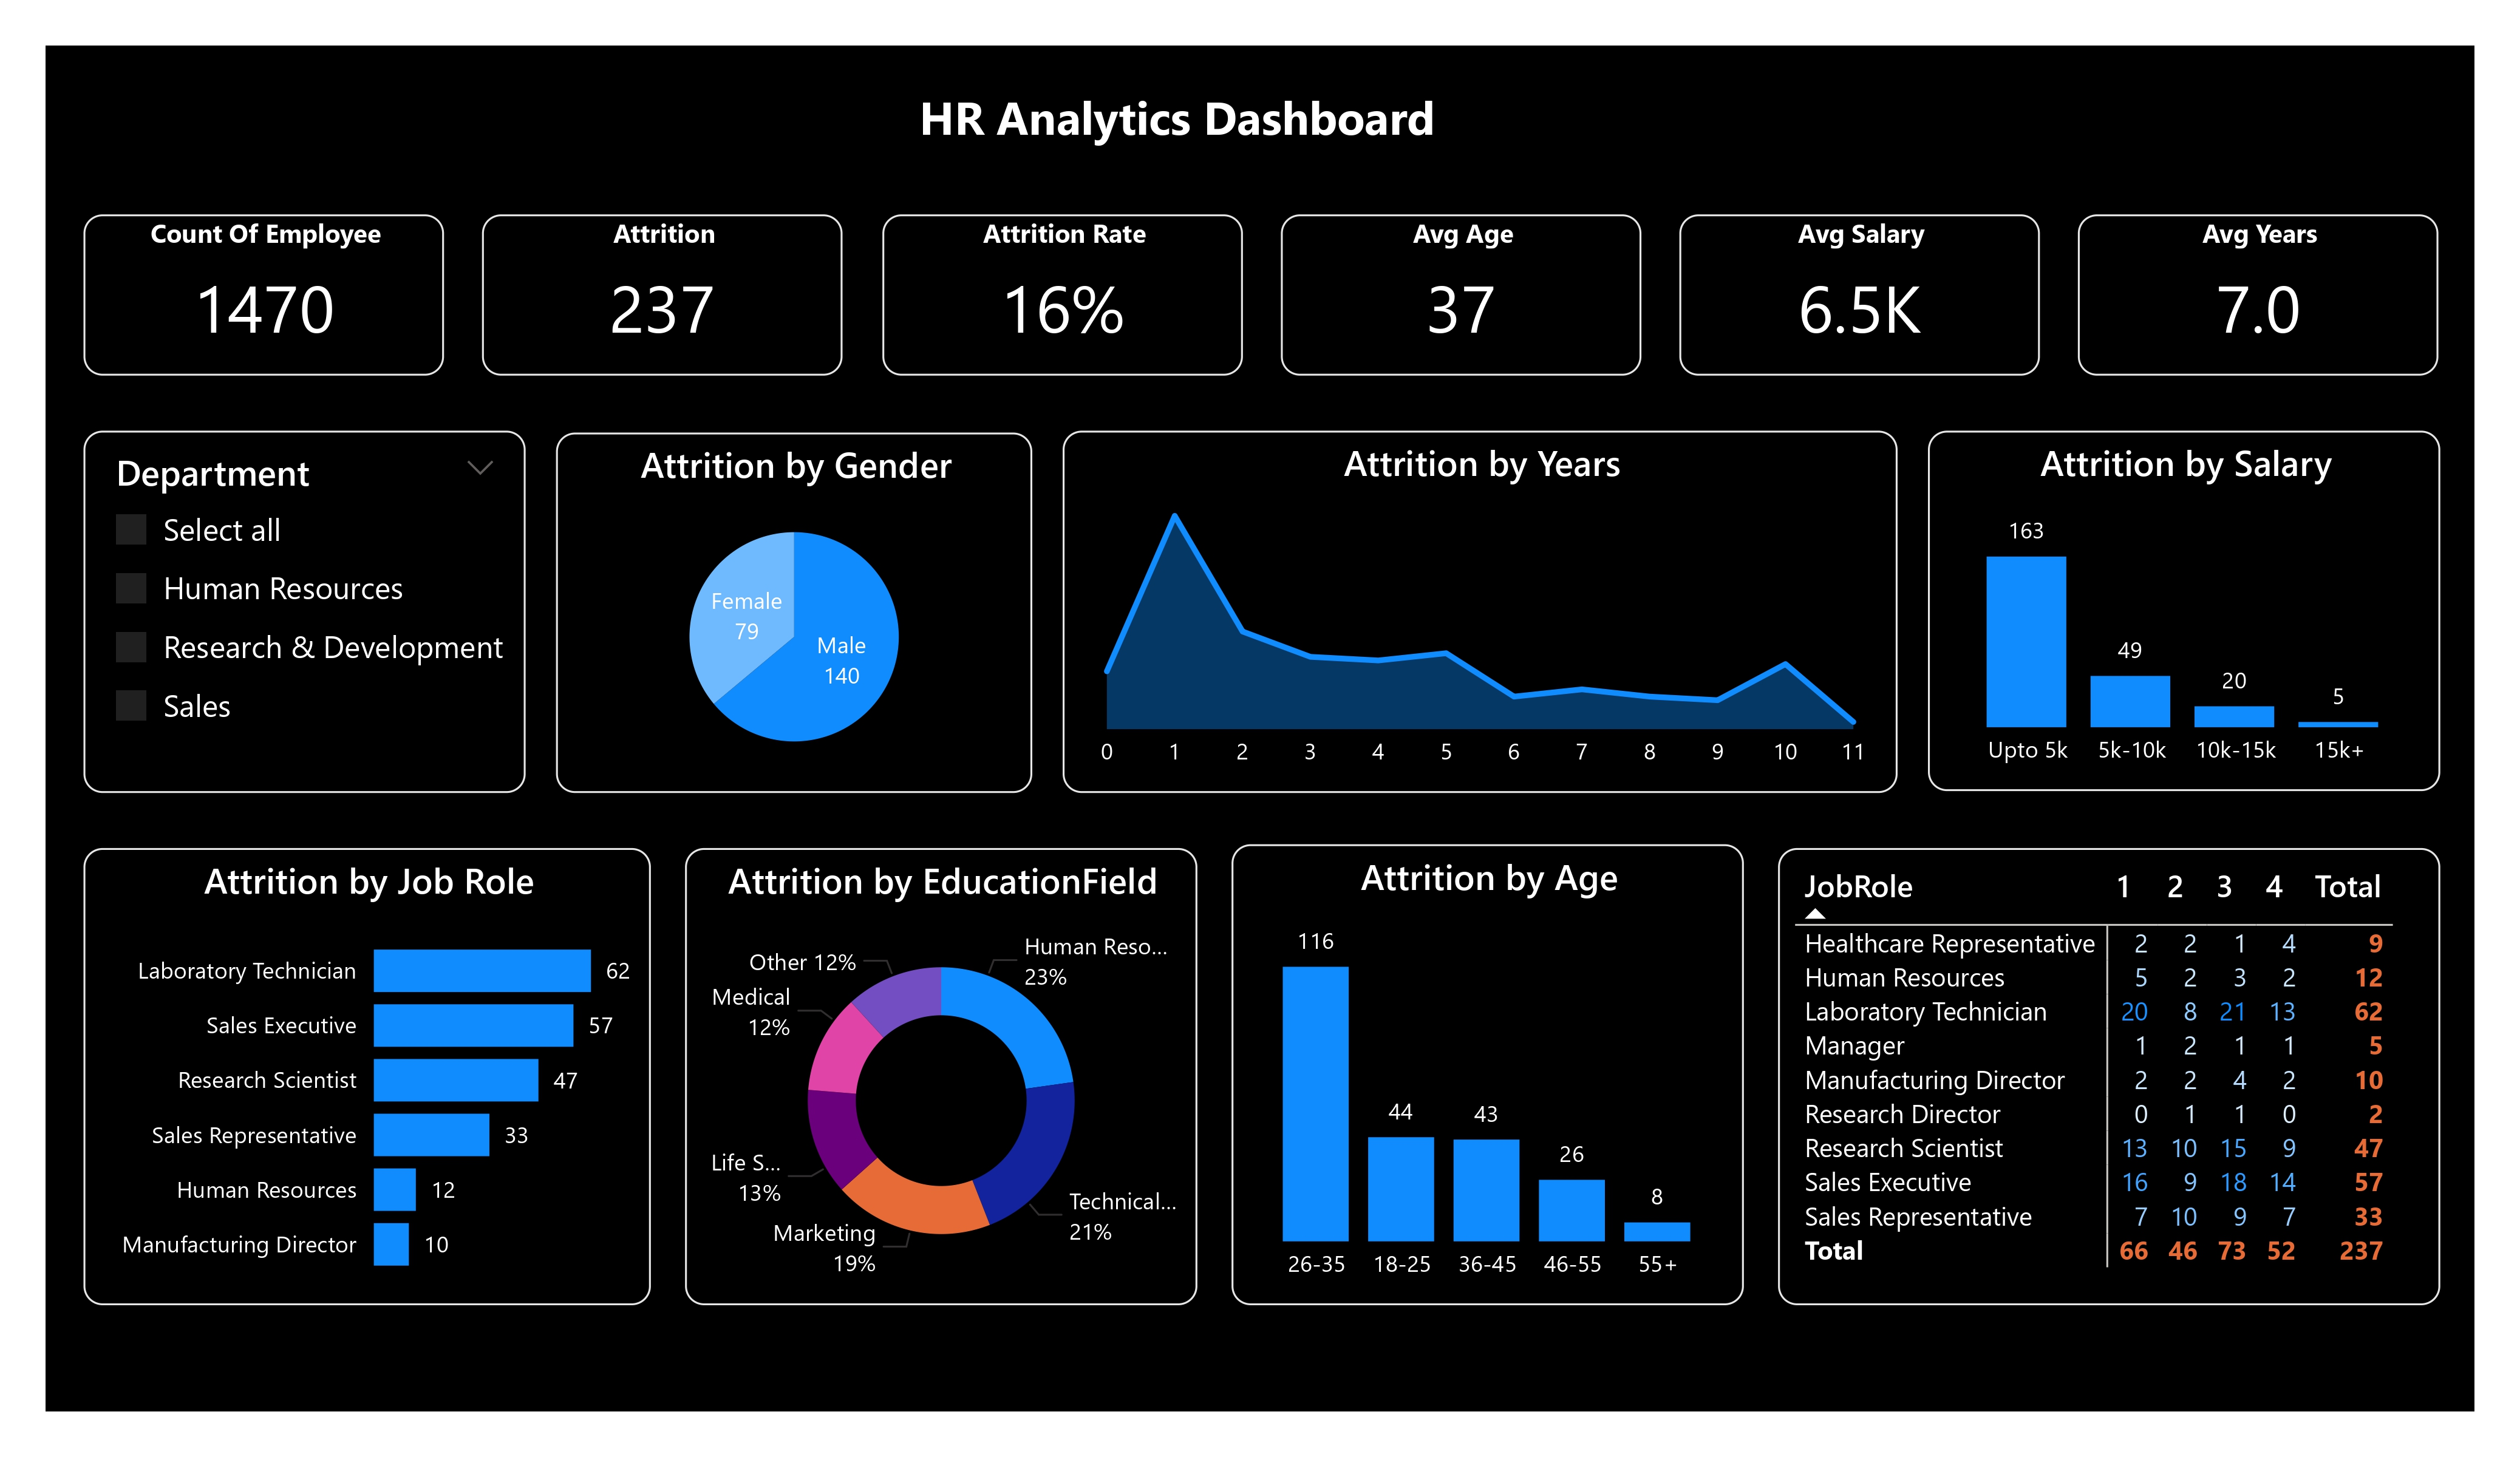

Layout of this report page (visuals, bound fields, positions):
{"tool":"powerbi","page":{"name":"Page 1","canvas":[1280,720],"ordinal":0},"visuals":[{"type":"card","title":"Count Of Employee","fields":{"Values":["CountNonNull(HR_Analytics.EmpID)"]},"box":[20,88.8,190,85],"z":0},{"type":"card","title":"Avg Salary","fields":{"Values":["Avg(HR_Analytics.MonthlyIncome)"]},"box":[861,88.8,190,85],"z":1000},{"type":"card","title":"Avg Years","fields":{"Values":["Avg(HR_Analytics.YearsAtCompany)"]},"box":[1071.2,88.8,190,85],"z":2000},{"type":"card","title":"Avg Age","fields":{"Values":["Avg(HR_Analytics.Age)"]},"box":[650.8,89.2,190,85],"z":3000},{"type":"card","title":"Attrition","fields":{"Values":["Sum(HR_Analytics.AttritionCount)"]},"box":[230.2,88.9,190,85],"z":4000},{"type":"card","title":"Attrition Rate","fields":{"Values":["HR_Analytics.AttritionRate"]},"box":[440.5,88.9,190,85],"z":5000},{"type":"donutChart","title":"Attrition by EducationField","fields":{"Category":["HR_Analytics.EducationField"],"Y":["HR_Analytics.AttritionRate"]},"box":[337.1,422.5,270,241.2],"z":6000},{"type":"clusteredColumnChart","title":"Attrition by Age","fields":{"Category":["HR_Analytics.AgeGroup"],"Y":["Sum(HR_Analytics.AttritionCount)"]},"box":[625,421.2,270,242.5],"z":7000},{"type":"pivotTable","title":"Attrition by Age","fields":{"Rows":["HR_Analytics.JobRole"],"Columns":["HR_Analytics.JobSatisfaction"],"Values":["Sum(HR_Analytics.AttritionCount)"]},"box":[912.9,422.5,348.8,241.2],"z":8000},{"type":"clusteredColumnChart","title":"Attrition by Salary","fields":{"Category":["HR_Analytics.SalarySlab"],"Y":["Sum(HR_Analytics.AttritionCount)"]},"box":[991.7,203.1,270,190],"z":9000},{"type":"clusteredBarChart","title":"Attrition by Job Role","fields":{"Category":["HR_Analytics.JobRole"],"Y":["Sum(HR_Analytics.AttritionCount)"]},"box":[20.4,422.5,298.8,241.2],"z":10000},{"type":"areaChart","title":"Attrition by Years","fields":{"Category":["HR_Analytics.YearsAtCompany"],"Y":["Sum(HR_Analytics.AttritionCount)"]},"box":[535.8,202.5,440,191.2],"z":11000},{"type":"pieChart","title":"Attrition by Gender","fields":{"Category":["HR_Analytics.Gender"],"Y":["Sum(HR_Analytics.AttritionCount)"]},"box":[268.7,203.8,251.2,190],"z":12000},{"type":"slicer","title":"Attrition by Age","fields":{"Values":["HR_Analytics.Department"]},"box":[20.4,202.5,232.5,191.2],"z":13000},{"type":"textbox","box":[393.8,16.2,405,46.2],"z":14000}]}

Visuals, with their boxes on the page's 1280x720 design canvas (x1, y1, x2, y2). These are canvas units, not pixel positions in the 2520x1457 screenshot, which may show the page scaled, cropped or inside an application window:
"Count Of Employee" card: <region>20, 89, 210, 174</region>
"Avg Salary" card: <region>861, 89, 1051, 174</region>
"Avg Years" card: <region>1071, 89, 1261, 174</region>
"Avg Age" card: <region>651, 89, 841, 174</region>
"Attrition" card: <region>230, 89, 420, 174</region>
"Attrition Rate" card: <region>440, 89, 630, 174</region>
"Attrition by EducationField" donutChart: <region>337, 422, 607, 664</region>
"Attrition by Age" clusteredColumnChart: <region>625, 421, 895, 664</region>
"Attrition by Age" pivotTable: <region>913, 422, 1262, 664</region>
"Attrition by Salary" clusteredColumnChart: <region>992, 203, 1262, 393</region>
"Attrition by Job Role" clusteredBarChart: <region>20, 422, 319, 664</region>
"Attrition by Years" areaChart: <region>536, 202, 976, 394</region>
"Attrition by Gender" pieChart: <region>269, 204, 520, 394</region>
"Attrition by Age" slicer: <region>20, 202, 253, 394</region>
textbox: <region>394, 16, 799, 62</region>
